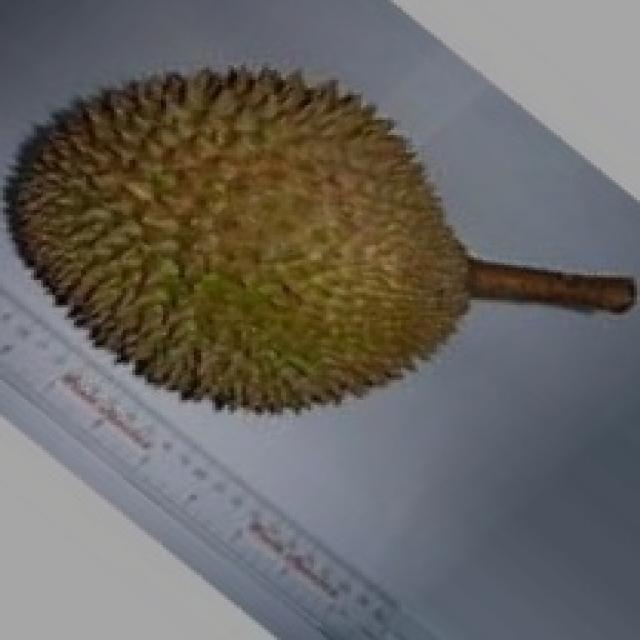fruit: (0, 35, 382, 463)
